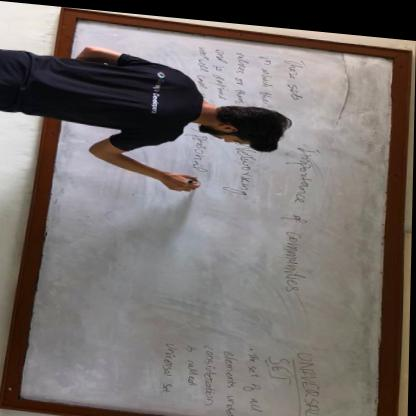Handwritten text: (277, 135, 324, 294), (221, 135, 266, 195), (295, 342, 327, 416), (178, 125, 217, 168), (245, 345, 268, 412), (223, 340, 243, 416), (202, 336, 223, 408), (232, 42, 257, 99), (158, 334, 182, 393), (283, 50, 312, 96), (211, 37, 232, 97), (257, 45, 278, 100), (183, 337, 200, 389), (269, 348, 295, 379)
Lecturer: (11, 43, 296, 177)
